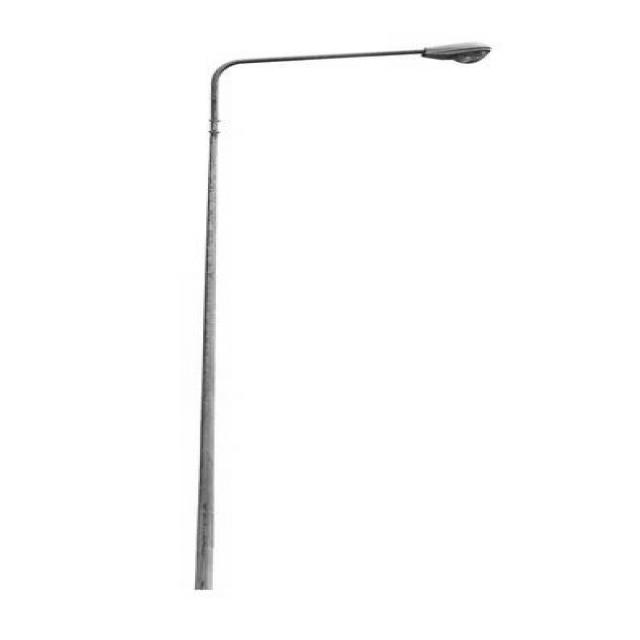Pole: (195, 42, 492, 590)
